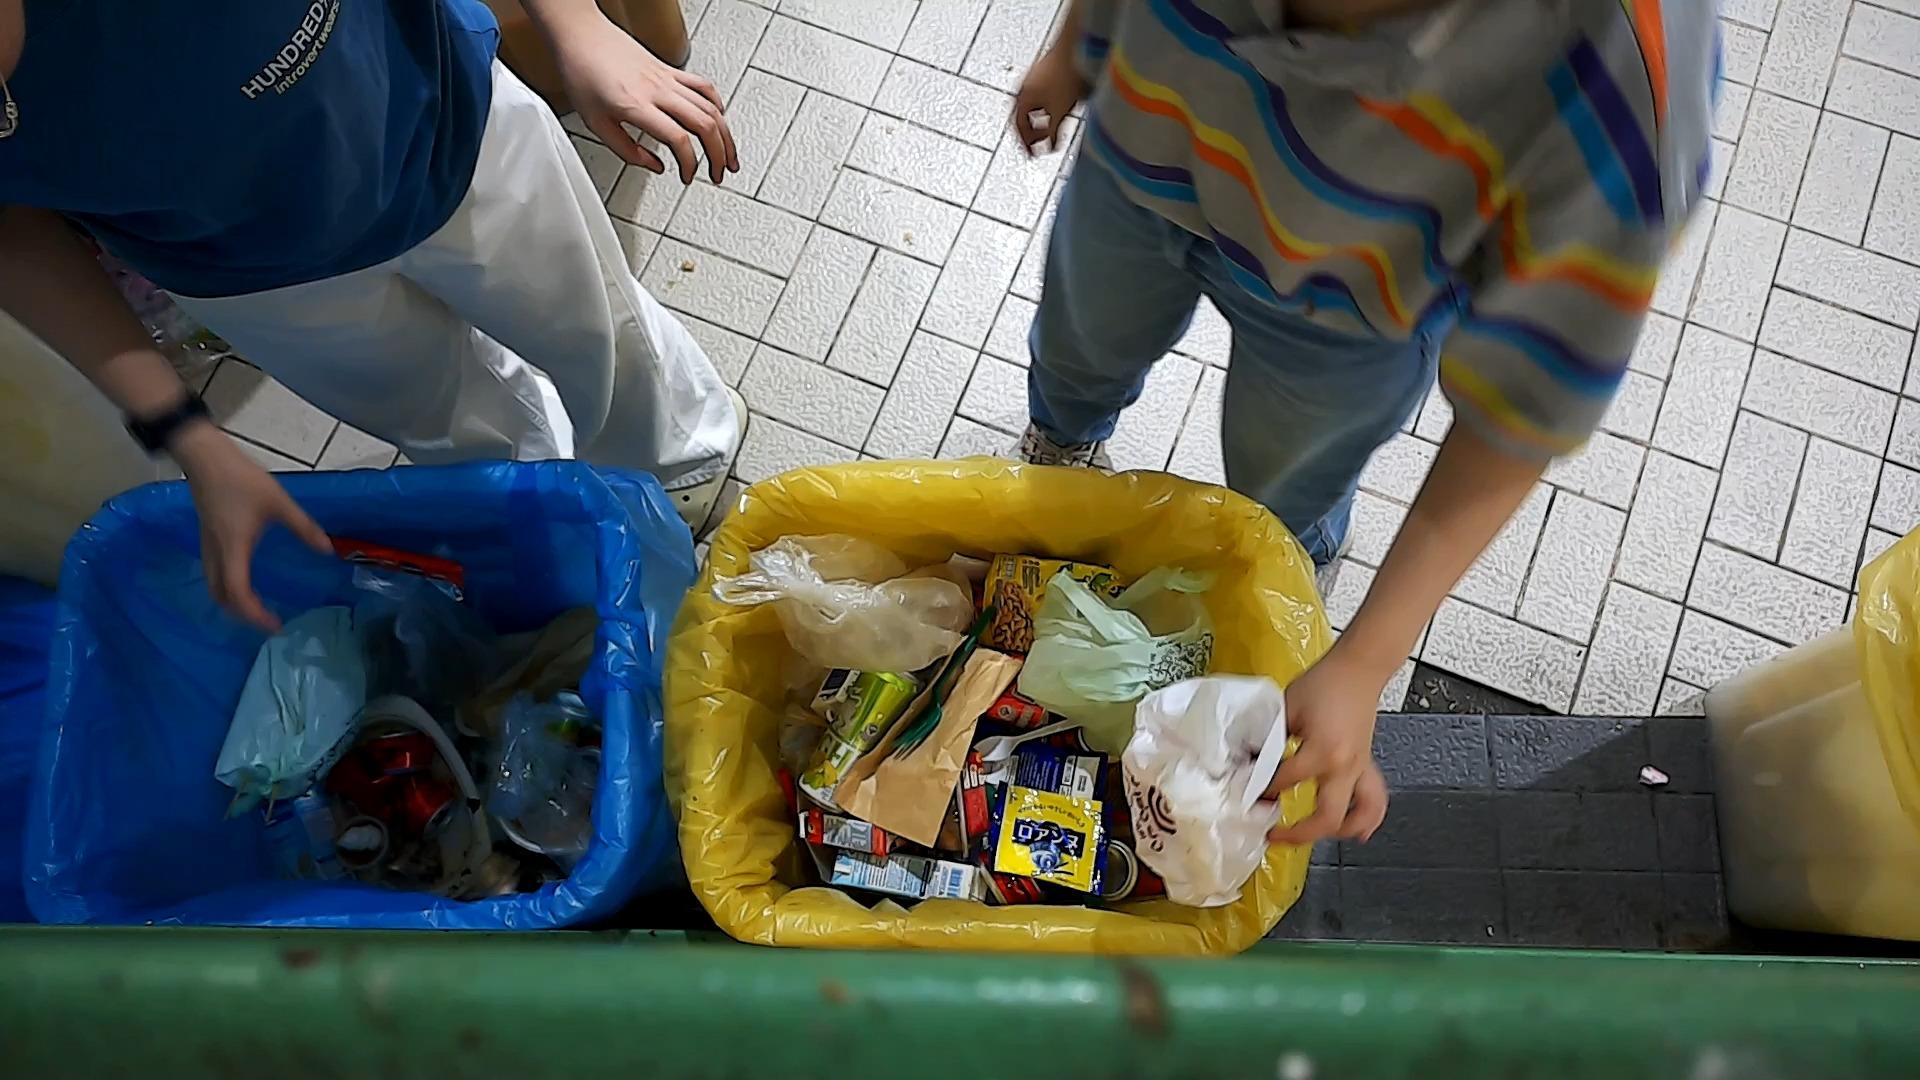can: (794, 667, 922, 811), (332, 727, 456, 840), (364, 728, 439, 779)
dirty food container: (328, 815, 394, 877)
filled plastic bag: (720, 525, 973, 669), (210, 599, 365, 818)
milk carton: (268, 791, 367, 884), (832, 847, 976, 902), (795, 798, 914, 858)
paper bag: (827, 637, 1023, 845), (480, 605, 596, 704)
plastic bag: (1121, 673, 1287, 901), (1033, 567, 1222, 764)
plastic cutlery: (884, 601, 1000, 752), (971, 713, 1096, 769)
snack packaging: (973, 551, 1122, 655), (982, 778, 1106, 897), (322, 530, 468, 591)
